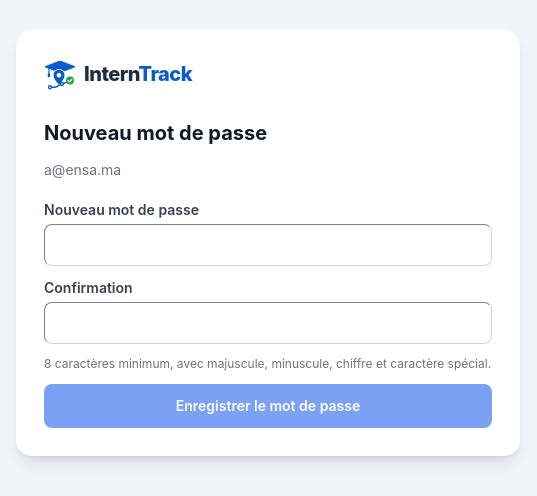
Test case: Réinitialisation du mot de passe › bloque l'envoi tant que la confirmation ne correspond pas
This screenshot has width=537, height=496.
In the password field labelled "Nouveau mot de passe": (268,245) [44,224,492,266], type "Secret@2026"
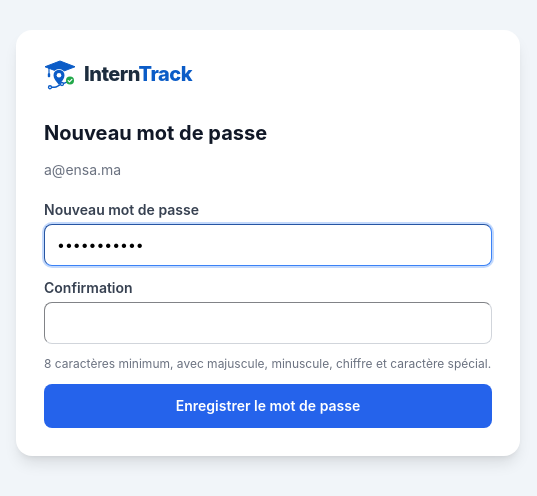
In the password field labelled "Confirmation": (268,323) [44,302,492,344], type "Secret@2027"
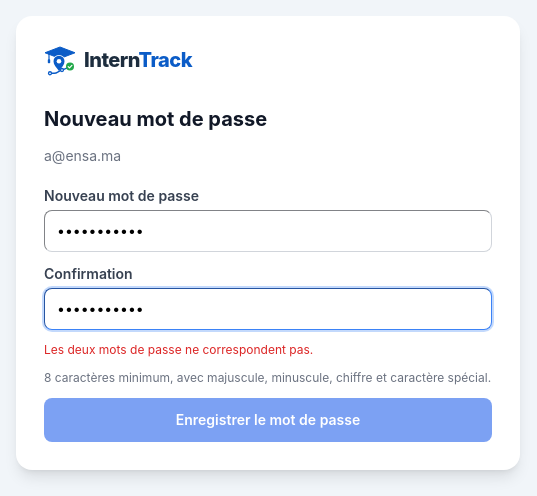
Result: the text "Les deux mots de passe ne correspondent pas." is shown at [44,342,313,357]
Result: the button "Enregistrer le mot de passe" is disabled at [44,398,492,442]
